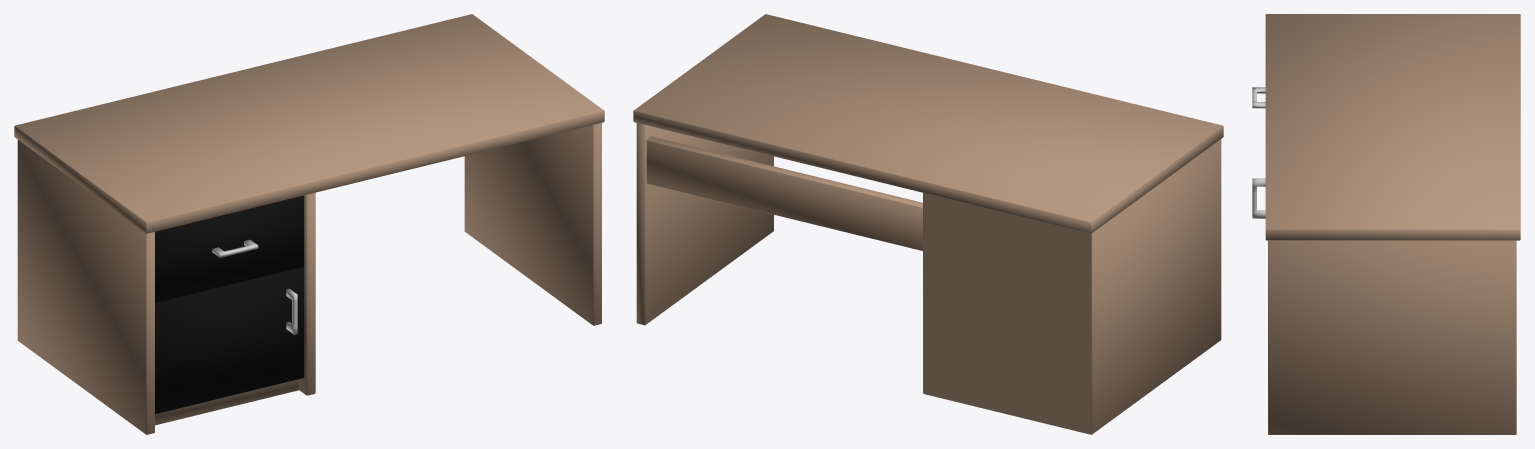
The model's file is Desk.FBX.
3 views of the same model, side by side, from view 1: azimuth 30°, elevation 25°; view 2: azimuth 150°, elevation 25°; view 3: azimuth 270°, elevation 25° (orthographic). The views are drawn at different scales.
Visible parts, largest first — view 1: Desk, Door2, Door1; view 2: Desk; view 3: Desk, Handle2.
Boxes of the visible parts, left/top/right/bottom form: Desk: left=14, top=14, right=604, bottom=434; Door2: left=155, top=267, right=304, bottom=414; Door1: left=155, top=195, right=304, bottom=302; Desk: left=633, top=14, right=1223, bottom=434; Desk: left=1265, top=14, right=1520, bottom=434; Handle2: left=1252, top=178, right=1265, bottom=218.
Size of the model in its own units: 4 by 1.79 by 2.1.
